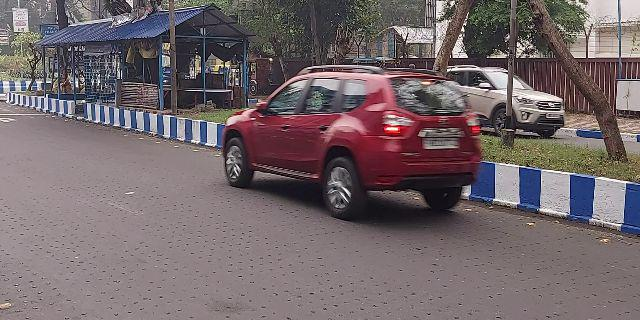Car: (218, 67, 482, 214)
